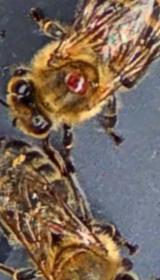varroa_mite: (56, 60, 96, 94)
